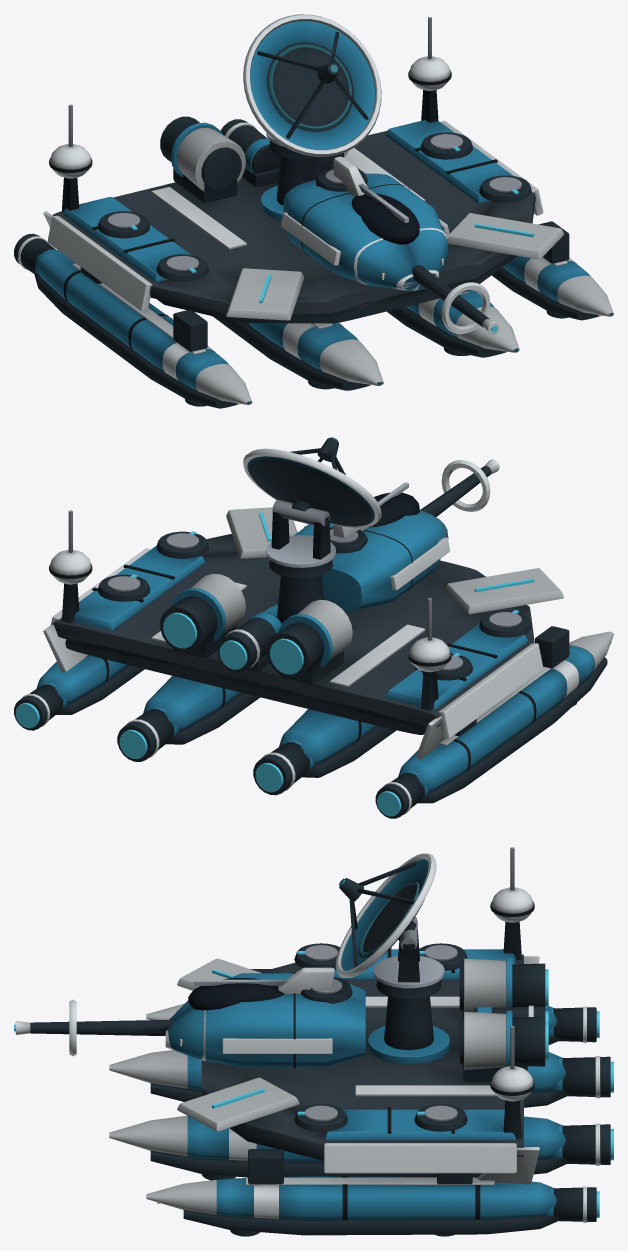
File: ex_skiff_12.glb
3 renders of one model, top to bottom at view 1: azimuth 30°, elevation 25°; view 2: azimuth 150°, elevation 25°; view 3: azimuth 270°, elevation 25°, orthographic.
Parts seen in each view (by area): view 1: body, fan_0; view 2: body, fan_0; view 3: body, fan_0.
Boxes of the visible parts, bbox=[...] form: body: bbox=[14, 17, 613, 408]; fan_0: bbox=[243, 14, 381, 159]; body: bbox=[14, 459, 613, 818]; fan_0: bbox=[243, 437, 381, 578]; body: bbox=[14, 847, 613, 1236]; fan_0: bbox=[335, 853, 444, 999].
Bounding box in the file's own units: 12.25 × 7.89 × 15.33.
